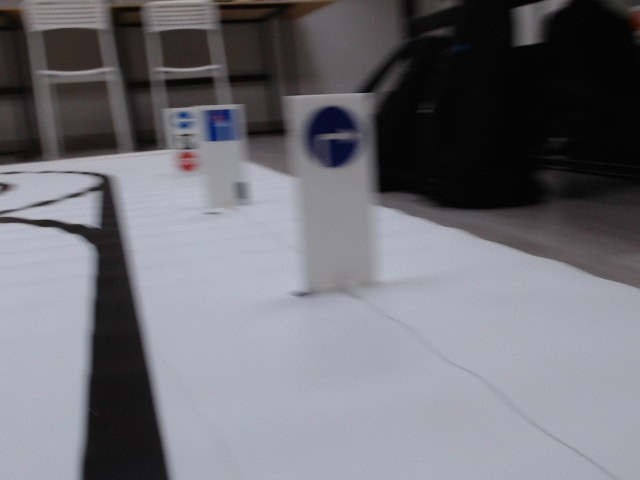Right: (300, 103, 366, 168)
